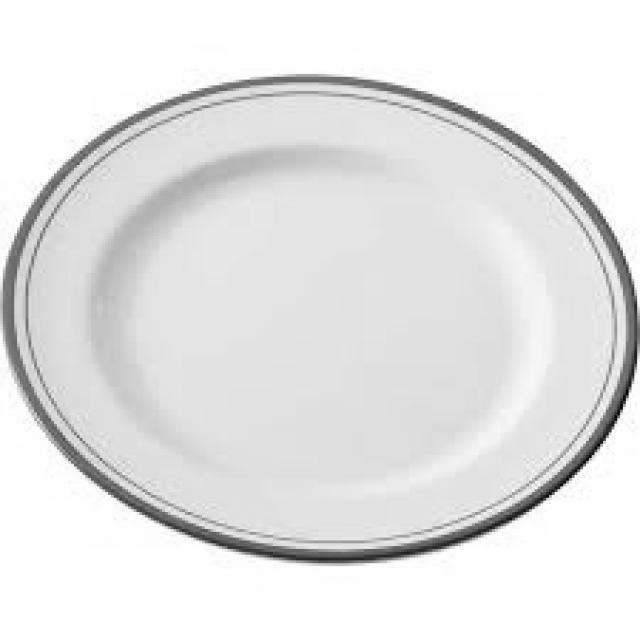dish: (2, 57, 634, 580)
